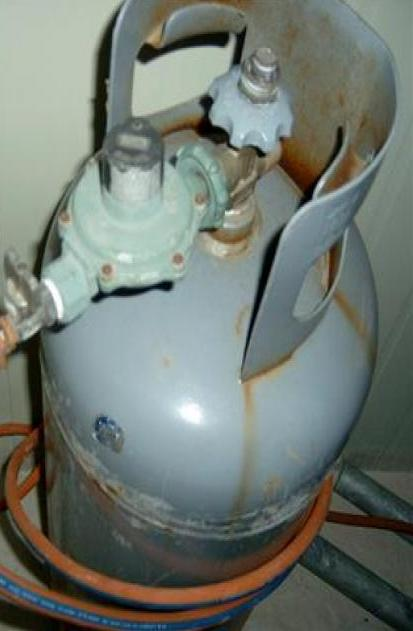cylinder: (1, 0, 413, 631)
